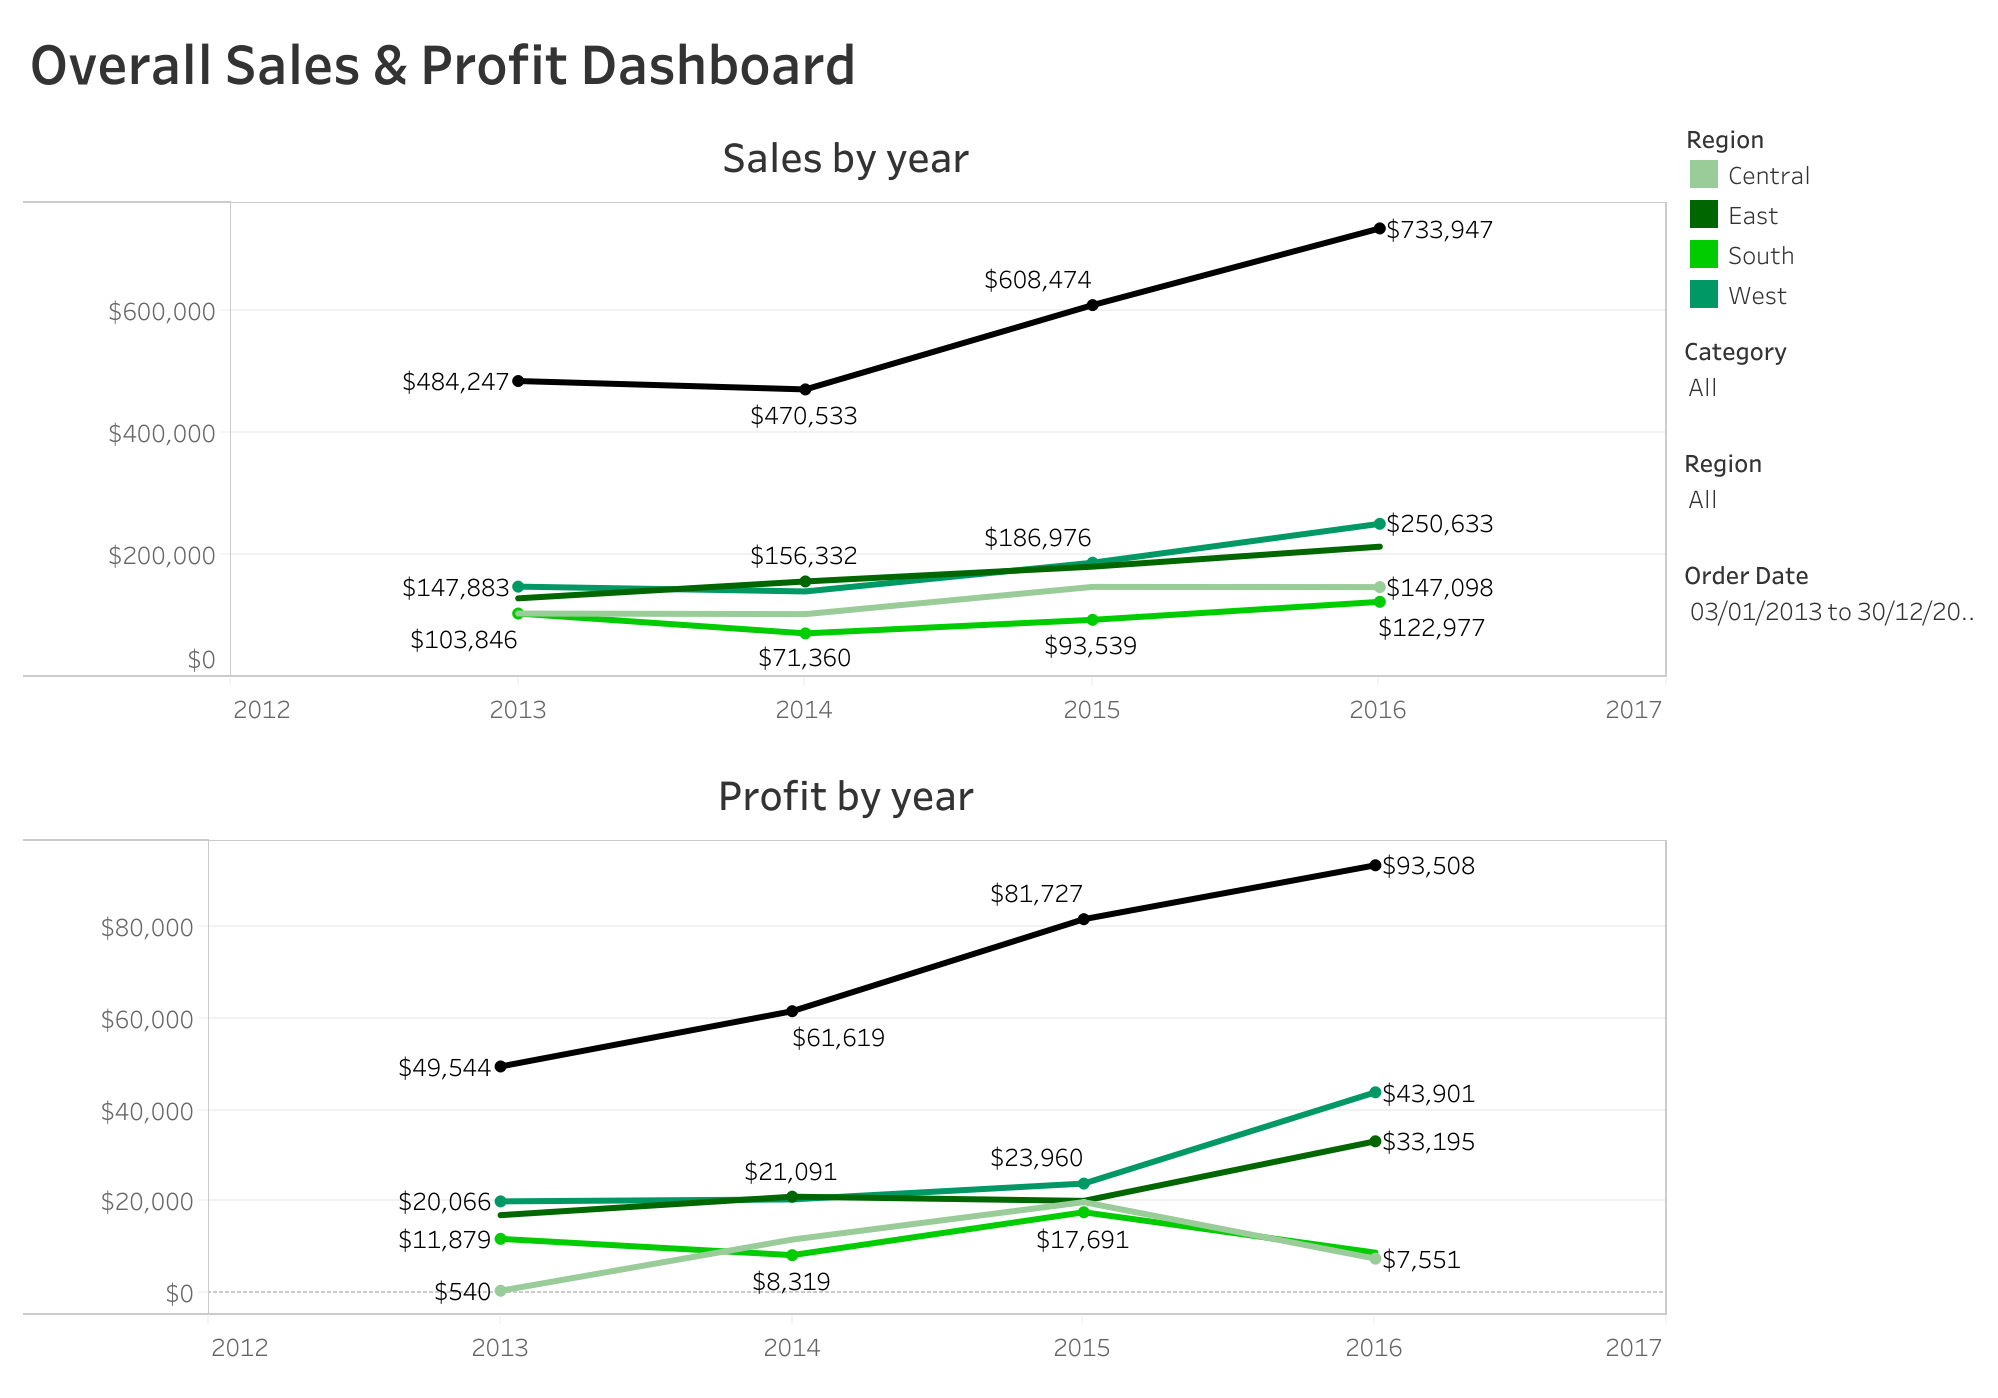

Layout of this report page (visuals, bound fields, positions):
{"tool":"tableau","page":{"name":"Overall Sales & Profit Dashboard ","canvas":[1000,1000],"units":"permille","ordinal":1},"visuals":[{"type":"title","box":[8,11.4,984,64.3]},{"type":"worksheet","title":"sales by year","mark":"Automatic","rows":["Sales","Sales"],"cols":["Order Date"],"box":[8,75.7,830,456.4]},{"type":"legend","title":"sales by year","param":"[federated.1ija8d40sle75313g71o6096lhys].[none:Region:nk]","box":[838,75.7,154,151.4]},{"type":"filter","title":"sales by year","param":"[federated.1ija8d40sle75313g71o6096lhys].[none:Category:nk]","box":[838,227.2,154,74.3]},{"type":"filter","title":"profit by year","param":"[federated.1ija8d40sle75313g71o6096lhys].[none:Region:nk]","box":[838,301.4,154,74.3]},{"type":"filter","title":"sales by year","param":"[federated.1ija8d40sle75313g71o6096lhys].[none:Order Date:qk]","box":[838,375.7,154,98.6]},{"type":"worksheet","title":"profit by year","mark":"Automatic","rows":["Profit","Profit"],"cols":["Order Date"],"box":[8,532.1,830,456.4]}]}

Visuals, with their boxes on the dashboard's canvas, which has no fixed pixel size, in thousandths of its width and height (x1, y1, x2, y2). These are canvas units, not pixel positions in the 1998x1398 screenshot, which may show the page scaled, cropped or inside an application window:
title: (8, 11, 992, 76)
"sales by year" worksheet: (8, 76, 838, 532)
"sales by year" legend: (838, 76, 992, 227)
"sales by year" filter: (838, 227, 992, 302)
"profit by year" filter: (838, 301, 992, 376)
"sales by year" filter: (838, 376, 992, 474)
"profit by year" worksheet: (8, 532, 838, 988)
